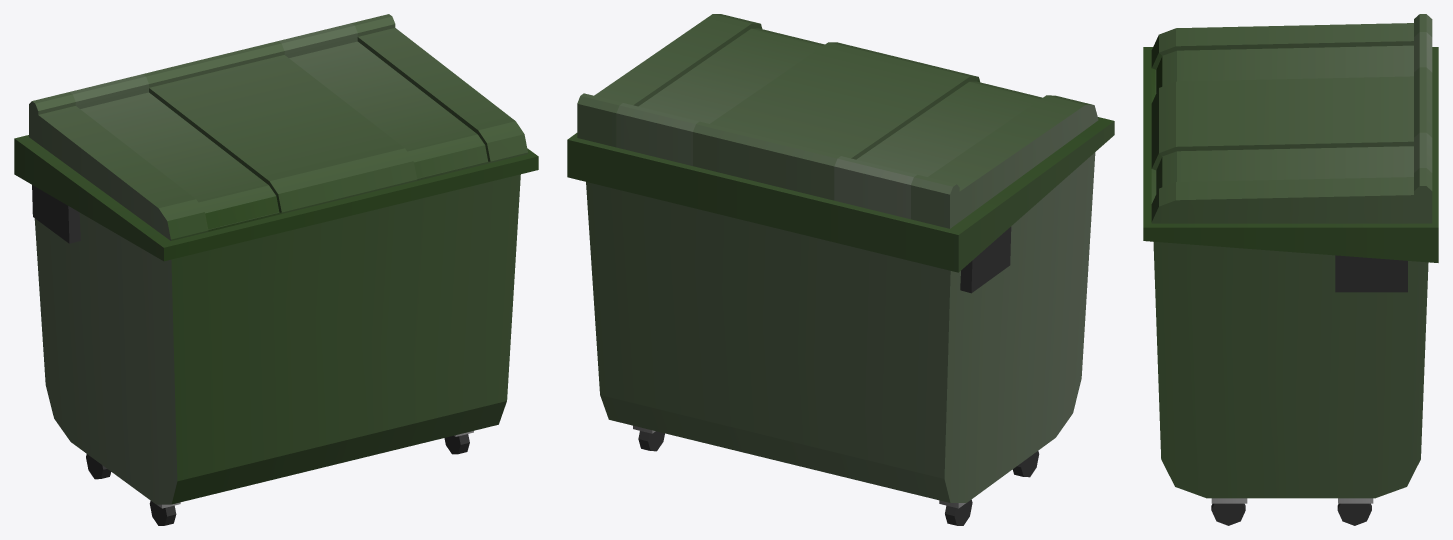
File: B02_Benne_OFF.fbx
3 views of the same model, side by side, from view 1: azimuth 30°, elevation 25°; view 2: azimuth 150°, elevation 25°; view 3: azimuth 270°, elevation 25° (orthographic). The views are drawn at different scales.
Parts seen in each view (by area): view 1: B02_Benne_OFF; view 2: B02_Benne_OFF; view 3: B02_Benne_OFF.
Part boxes in pixels (box(x1,y1,x2,y2)): B02_Benne_OFF: box(14, 14, 538, 525); B02_Benne_OFF: box(567, 14, 1114, 525); B02_Benne_OFF: box(1143, 14, 1438, 525).
Bounding box in the file's own units: 260 × 237 × 179.
